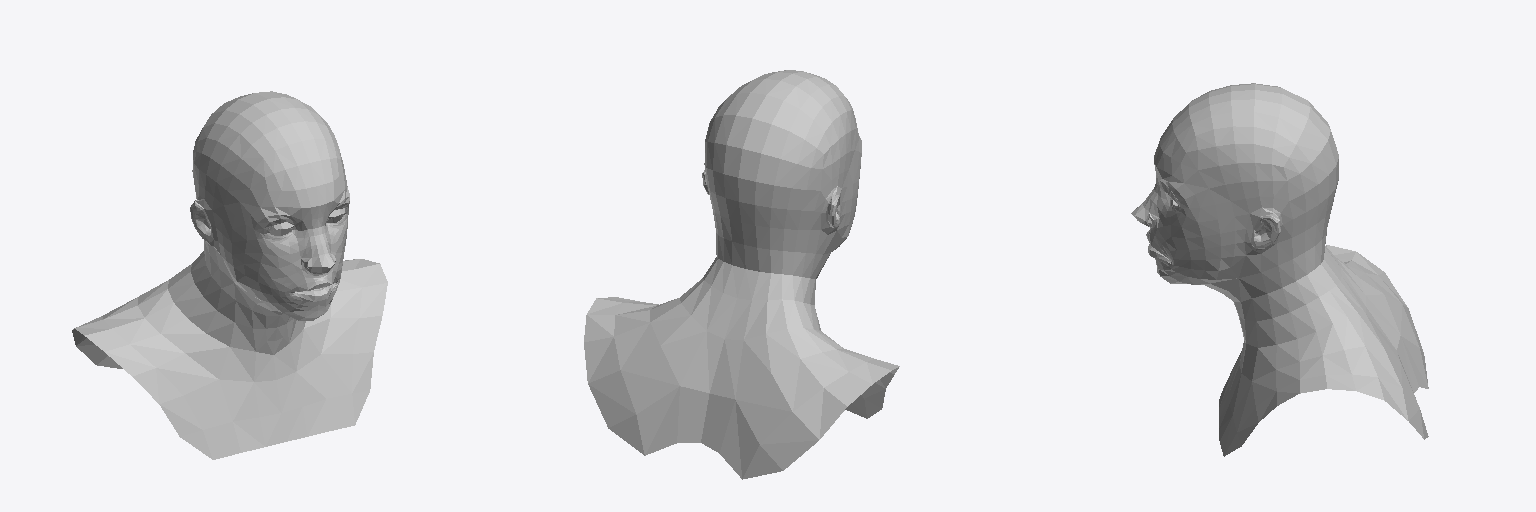
The model's file is LFrown.obj.
3 views of the same model, side by side, from view 1: azimuth 30°, elevation 25°; view 2: azimuth 150°, elevation 25°; view 3: azimuth 270°, elevation 25° (orthographic).
Parts seen in each view (by area): view 1: Lfrown Blendshapes; view 2: Lfrown Blendshapes; view 3: Lfrown Blendshapes.
Boxes of the visible parts, box(x1,y1,x2,y2) form: Lfrown Blendshapes: box(72, 91, 387, 459); Lfrown Blendshapes: box(584, 70, 899, 479); Lfrown Blendshapes: box(1131, 83, 1428, 456).
Bounding box in the file's own units: 449 × 482 × 391.